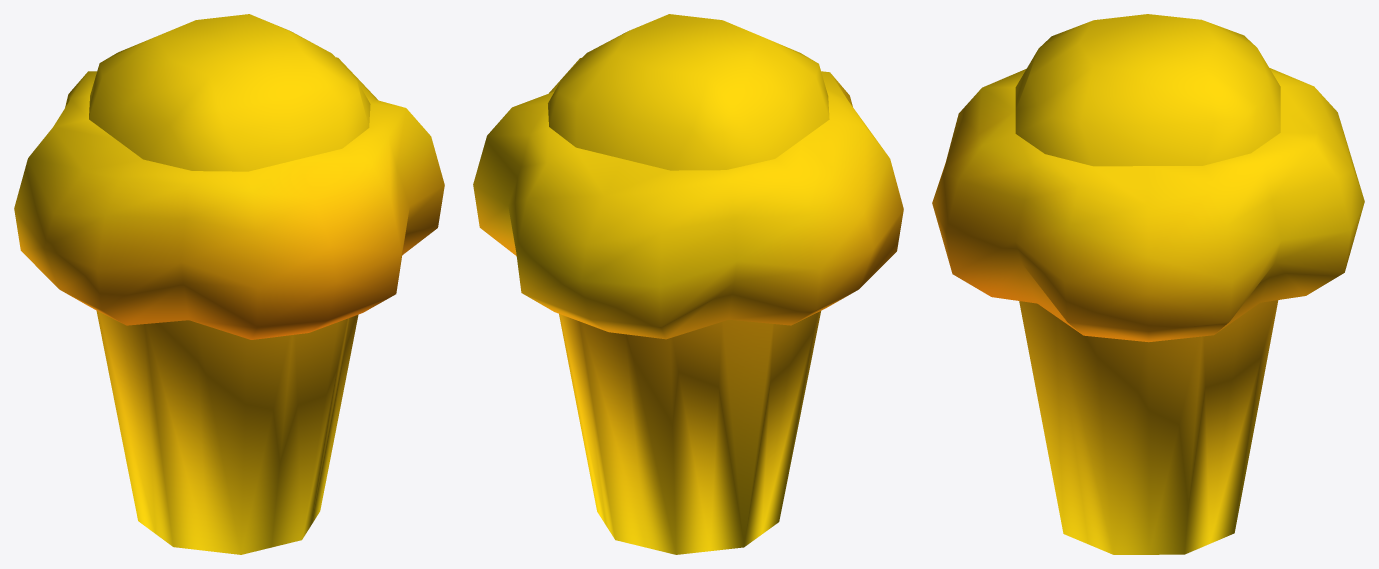
The model's file is Chef flying crown.fbx.
3 renders of one model, left to right at view 1: azimuth 30°, elevation 25°; view 2: azimuth 150°, elevation 25°; view 3: azimuth 270°, elevation 25°, orthographic.
Visible parts, largest first — view 1: msh_chara_cauliflower.001; view 2: msh_chara_cauliflower.001; view 3: msh_chara_cauliflower.001.
Part boxes in pixels (x1=…): msh_chara_cauliflower.001: x1=14, y1=14, x2=444, y2=554; msh_chara_cauliflower.001: x1=473, y1=14, x2=903, y2=554; msh_chara_cauliflower.001: x1=932, y1=14, x2=1364, y2=554.
Bounding box in the file's own units: 42.43 × 51.54 × 42.43.
